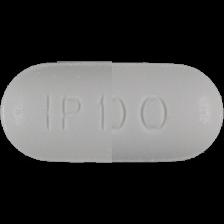0440-1852: (0, 0, 224, 224)
